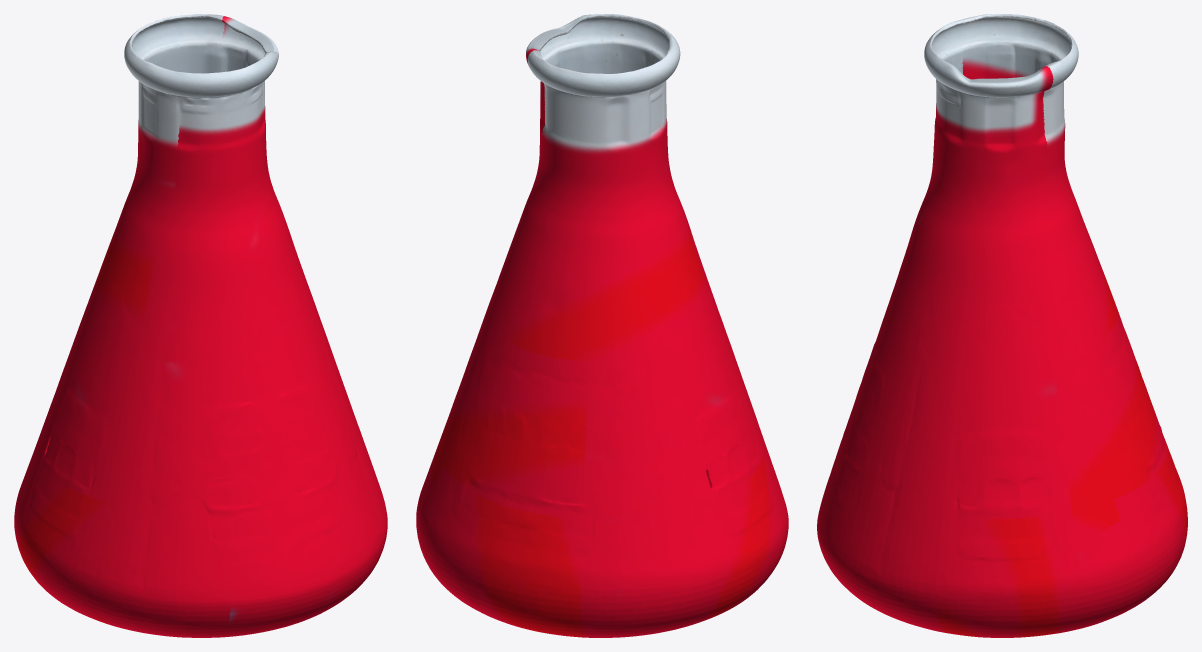
The model's file is acid_beaker.glb.
The picture shows the model from 3 angles, left to right: view 1: azimuth 30°, elevation 25°; view 2: azimuth 150°, elevation 25°; view 3: azimuth 270°, elevation 25°; orthographic projection.
Parts seen in each view (by area): view 1: tripo_node_377c8978-a28a-4534-8f01-d845ca4c34b6; view 2: tripo_node_377c8978-a28a-4534-8f01-d845ca4c34b6; view 3: tripo_node_377c8978-a28a-4534-8f01-d845ca4c34b6.
Part boxes in pixels (box(x1,y1,x2,y2)): tripo_node_377c8978-a28a-4534-8f01-d845ca4c34b6: box(14, 14, 387, 637); tripo_node_377c8978-a28a-4534-8f01-d845ca4c34b6: box(416, 14, 788, 637); tripo_node_377c8978-a28a-4534-8f01-d845ca4c34b6: box(817, 14, 1187, 637).
Size of the model in its own units: 33227 by 53385 by 33083.
1 material, 1 textured.
